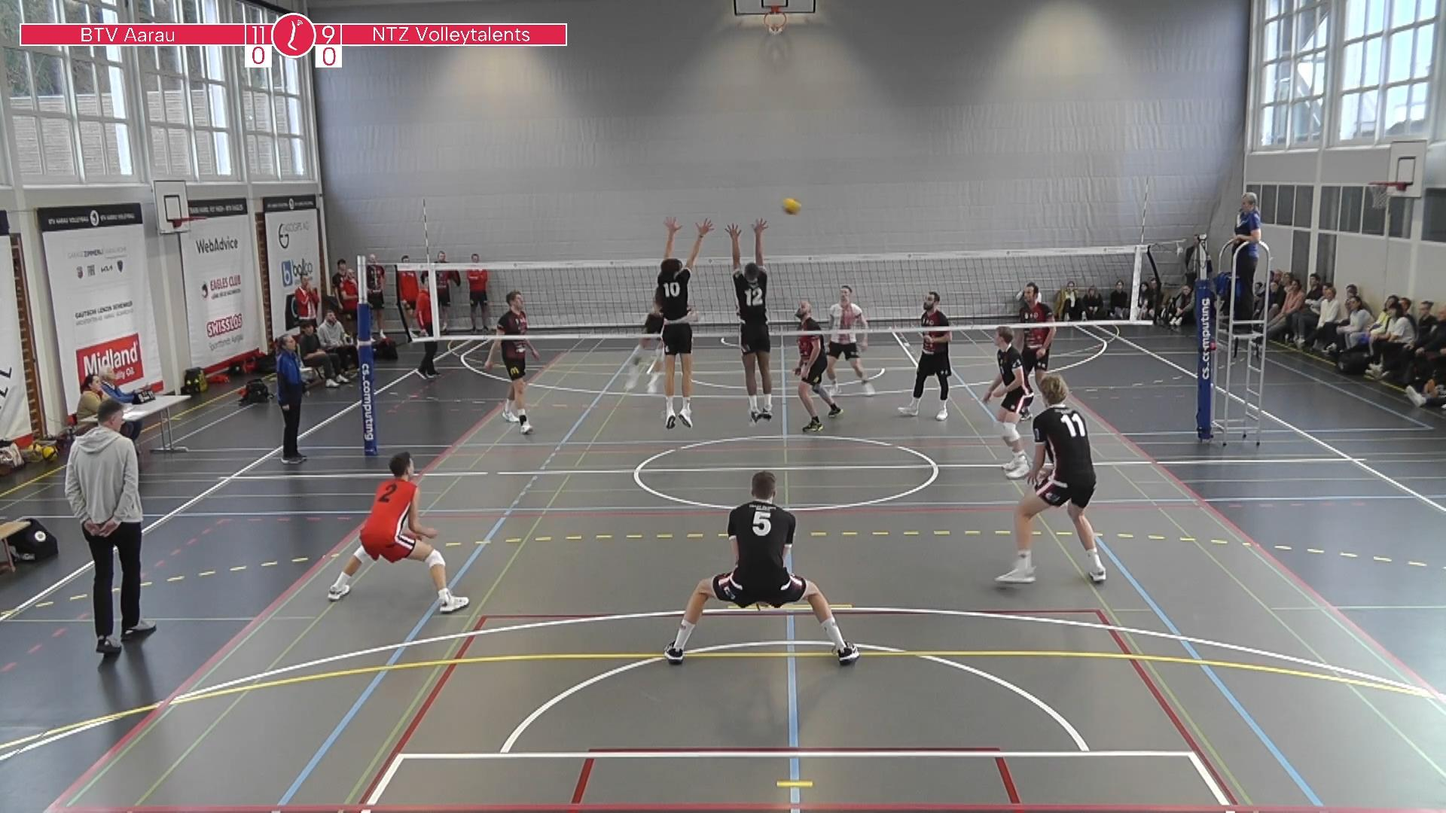Block: (638, 216, 718, 436), (726, 215, 783, 429)
Player: (665, 471, 859, 664), (996, 374, 1105, 583), (328, 452, 468, 613), (485, 291, 539, 434), (983, 326, 1033, 479), (898, 291, 951, 421), (793, 300, 840, 432), (828, 285, 874, 395), (626, 293, 664, 394), (1019, 282, 1056, 383)
ball: (783, 194, 803, 217)
